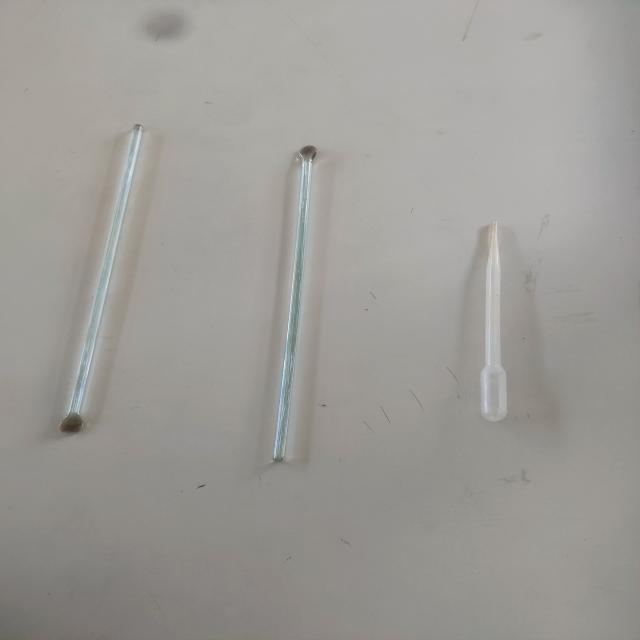Glass_Rod: (32, 88, 178, 453), (233, 109, 360, 491)
Pipette: (444, 192, 548, 446)
